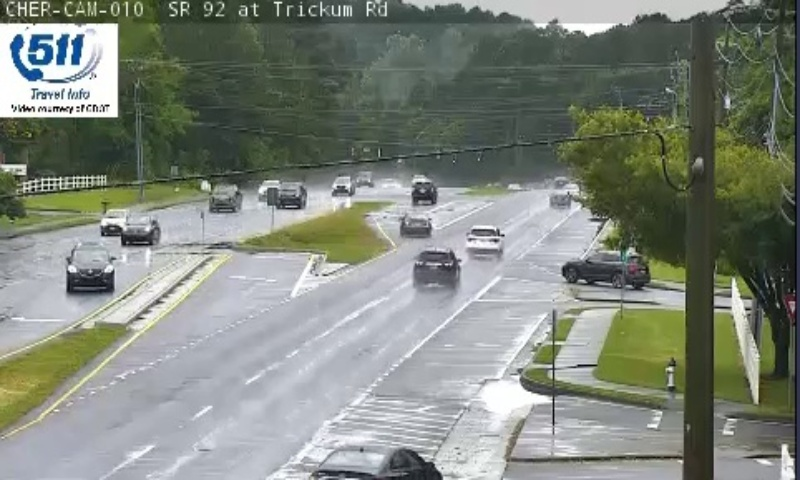car: (413, 250, 458, 283), (463, 225, 502, 252), (400, 212, 431, 238)
